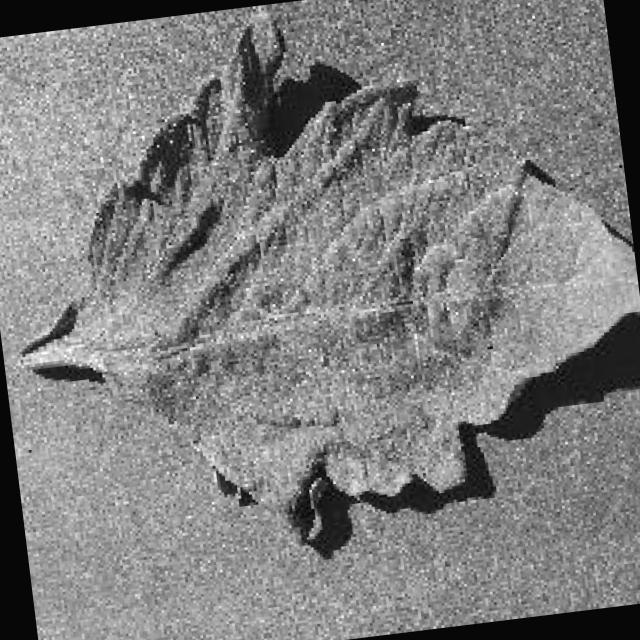healthy: (14, 11, 640, 552)
